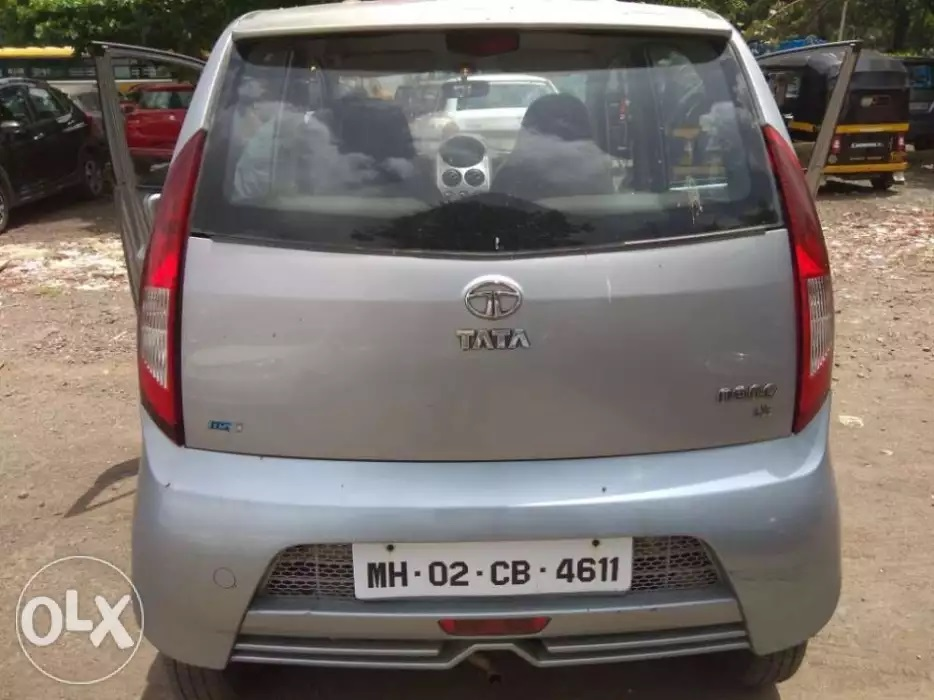licenseplate: (344, 535, 648, 607)
